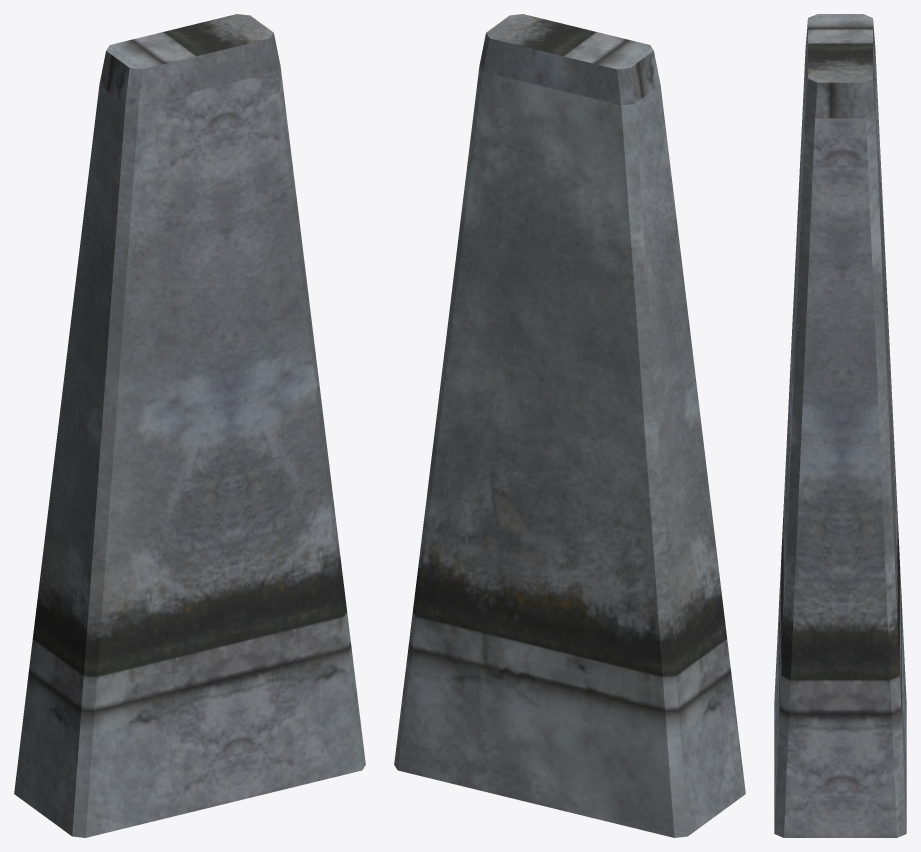
The model's file is Urban_BridgeSupportAlt_Model.fbx.
3 renders of one model, left to right at view 1: azimuth 30°, elevation 25°; view 2: azimuth 150°, elevation 25°; view 3: azimuth 270°, elevation 25°, orthographic. The views are drawn at different scales.
Visible parts, largest first — view 1: Urban_BridgeSupportAlt_Mesh; view 2: Urban_BridgeSupportAlt_Mesh; view 3: Urban_BridgeSupportAlt_Mesh.
Boxes of the visible parts, x1,y1,x2,y2 form: Urban_BridgeSupportAlt_Mesh: [14, 14, 365, 837]; Urban_BridgeSupportAlt_Mesh: [394, 14, 745, 837]; Urban_BridgeSupportAlt_Mesh: [774, 14, 906, 837].
Size of the model in its own units: 5 by 12 by 2.
